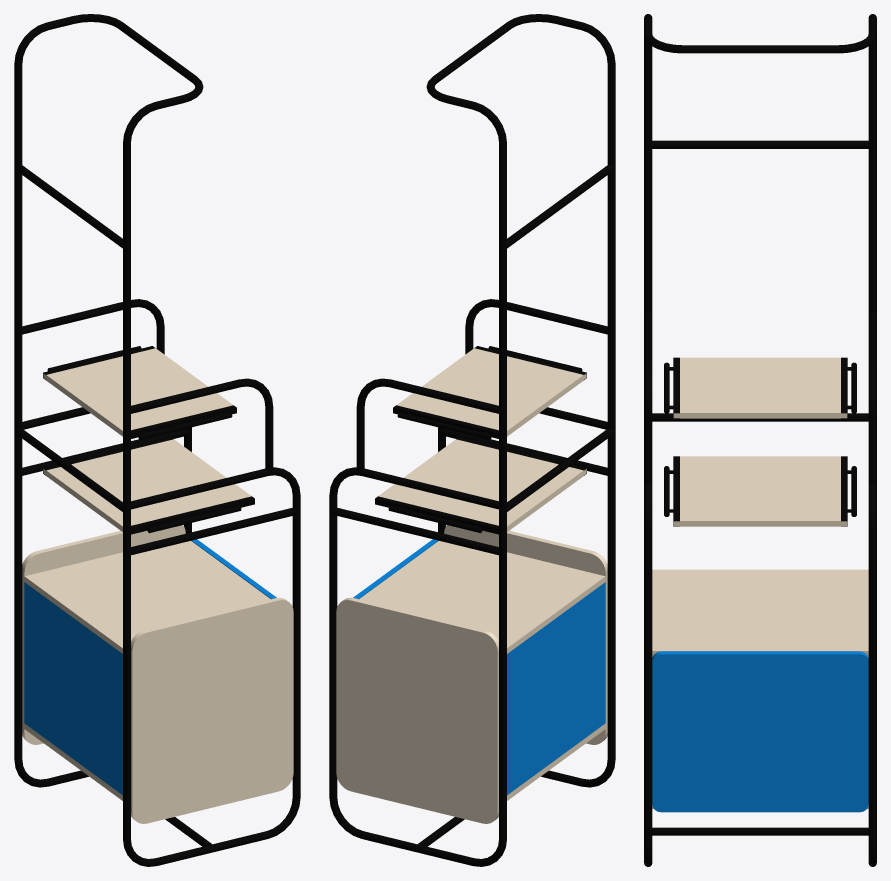
The picture shows the model from 3 angles, left to right: view 1: azimuth 30°, elevation 25°; view 2: azimuth 150°, elevation 25°; view 3: azimuth 270°, elevation 25°; orthographic projection. The views are drawn at different scales.
Visible parts, largest first — view 1: Cuerpo1:4, Cuerpo1, Cuerpo14, Cuerpo1:3, Cuerpo1:2, Cuerpo1:1, Cuerpo18, Cuerpo24, Cuerpo25, Cuerpo16; view 2: Cuerpo18, Cuerpo1, Cuerpo14, Cuerpo1:3, Cuerpo1:2, Cuerpo1:1, Cuerpo1:4, Cuerpo31, Cuerpo41, Cuerpo24, Cuerpo25, Cuerpo16 (+2 smaller); view 3: Cuerpo20, Cuerpo1, Cuerpo1:3, Cuerpo1:2, Cuerpo1:1, Cuerpo24, Cuerpo25, Cuerpo31.
Boxes of the visible parts, <box> form: Cuerpo1:4: <box>131,597,293,823</box>; Cuerpo1: <box>14,14,300,866</box>; Cuerpo14: <box>24,582,122,795</box>; Cuerpo1:3: <box>24,541,270,653</box>; Cuerpo1:2: <box>43,439,251,531</box>; Cuerpo1:1: <box>43,348,233,436</box>; Cuerpo18: <box>22,525,185,744</box>; Cuerpo24: <box>131,496,254,534</box>; Cuerpo25: <box>131,405,236,439</box>; Cuerpo16: <box>24,723,122,800</box>; Cuerpo18: <box>336,597,498,823</box>; Cuerpo1: <box>329,14,615,866</box>; Cuerpo14: <box>507,582,605,795</box>; Cuerpo1:3: <box>359,541,605,653</box>; Cuerpo1:2: <box>378,439,586,531</box>; Cuerpo1:1: <box>396,348,586,436</box>; Cuerpo1:4: <box>444,525,607,744</box>; Cuerpo31: <box>375,496,498,534</box>; Cuerpo41: <box>393,405,498,438</box>; Cuerpo24: <box>456,437,586,475</box>; Cuerpo25: <box>474,346,586,379</box>; Cuerpo16: <box>507,723,605,800</box>; Cuerpo20: <box>652,651,868,812</box>; Cuerpo1: <box>644,14,876,866</box>; Cuerpo1:3: <box>652,569,868,656</box>; Cuerpo1:2: <box>673,456,847,526</box>; Cuerpo1:1: <box>673,357,847,418</box>; Cuerpo24: <box>664,456,679,526</box>; Cuerpo25: <box>664,357,679,418</box>; Cuerpo31: <box>841,456,847,526</box>.
Size of the model in its own units: 0.0484 by 0.1999 by 0.0534.
